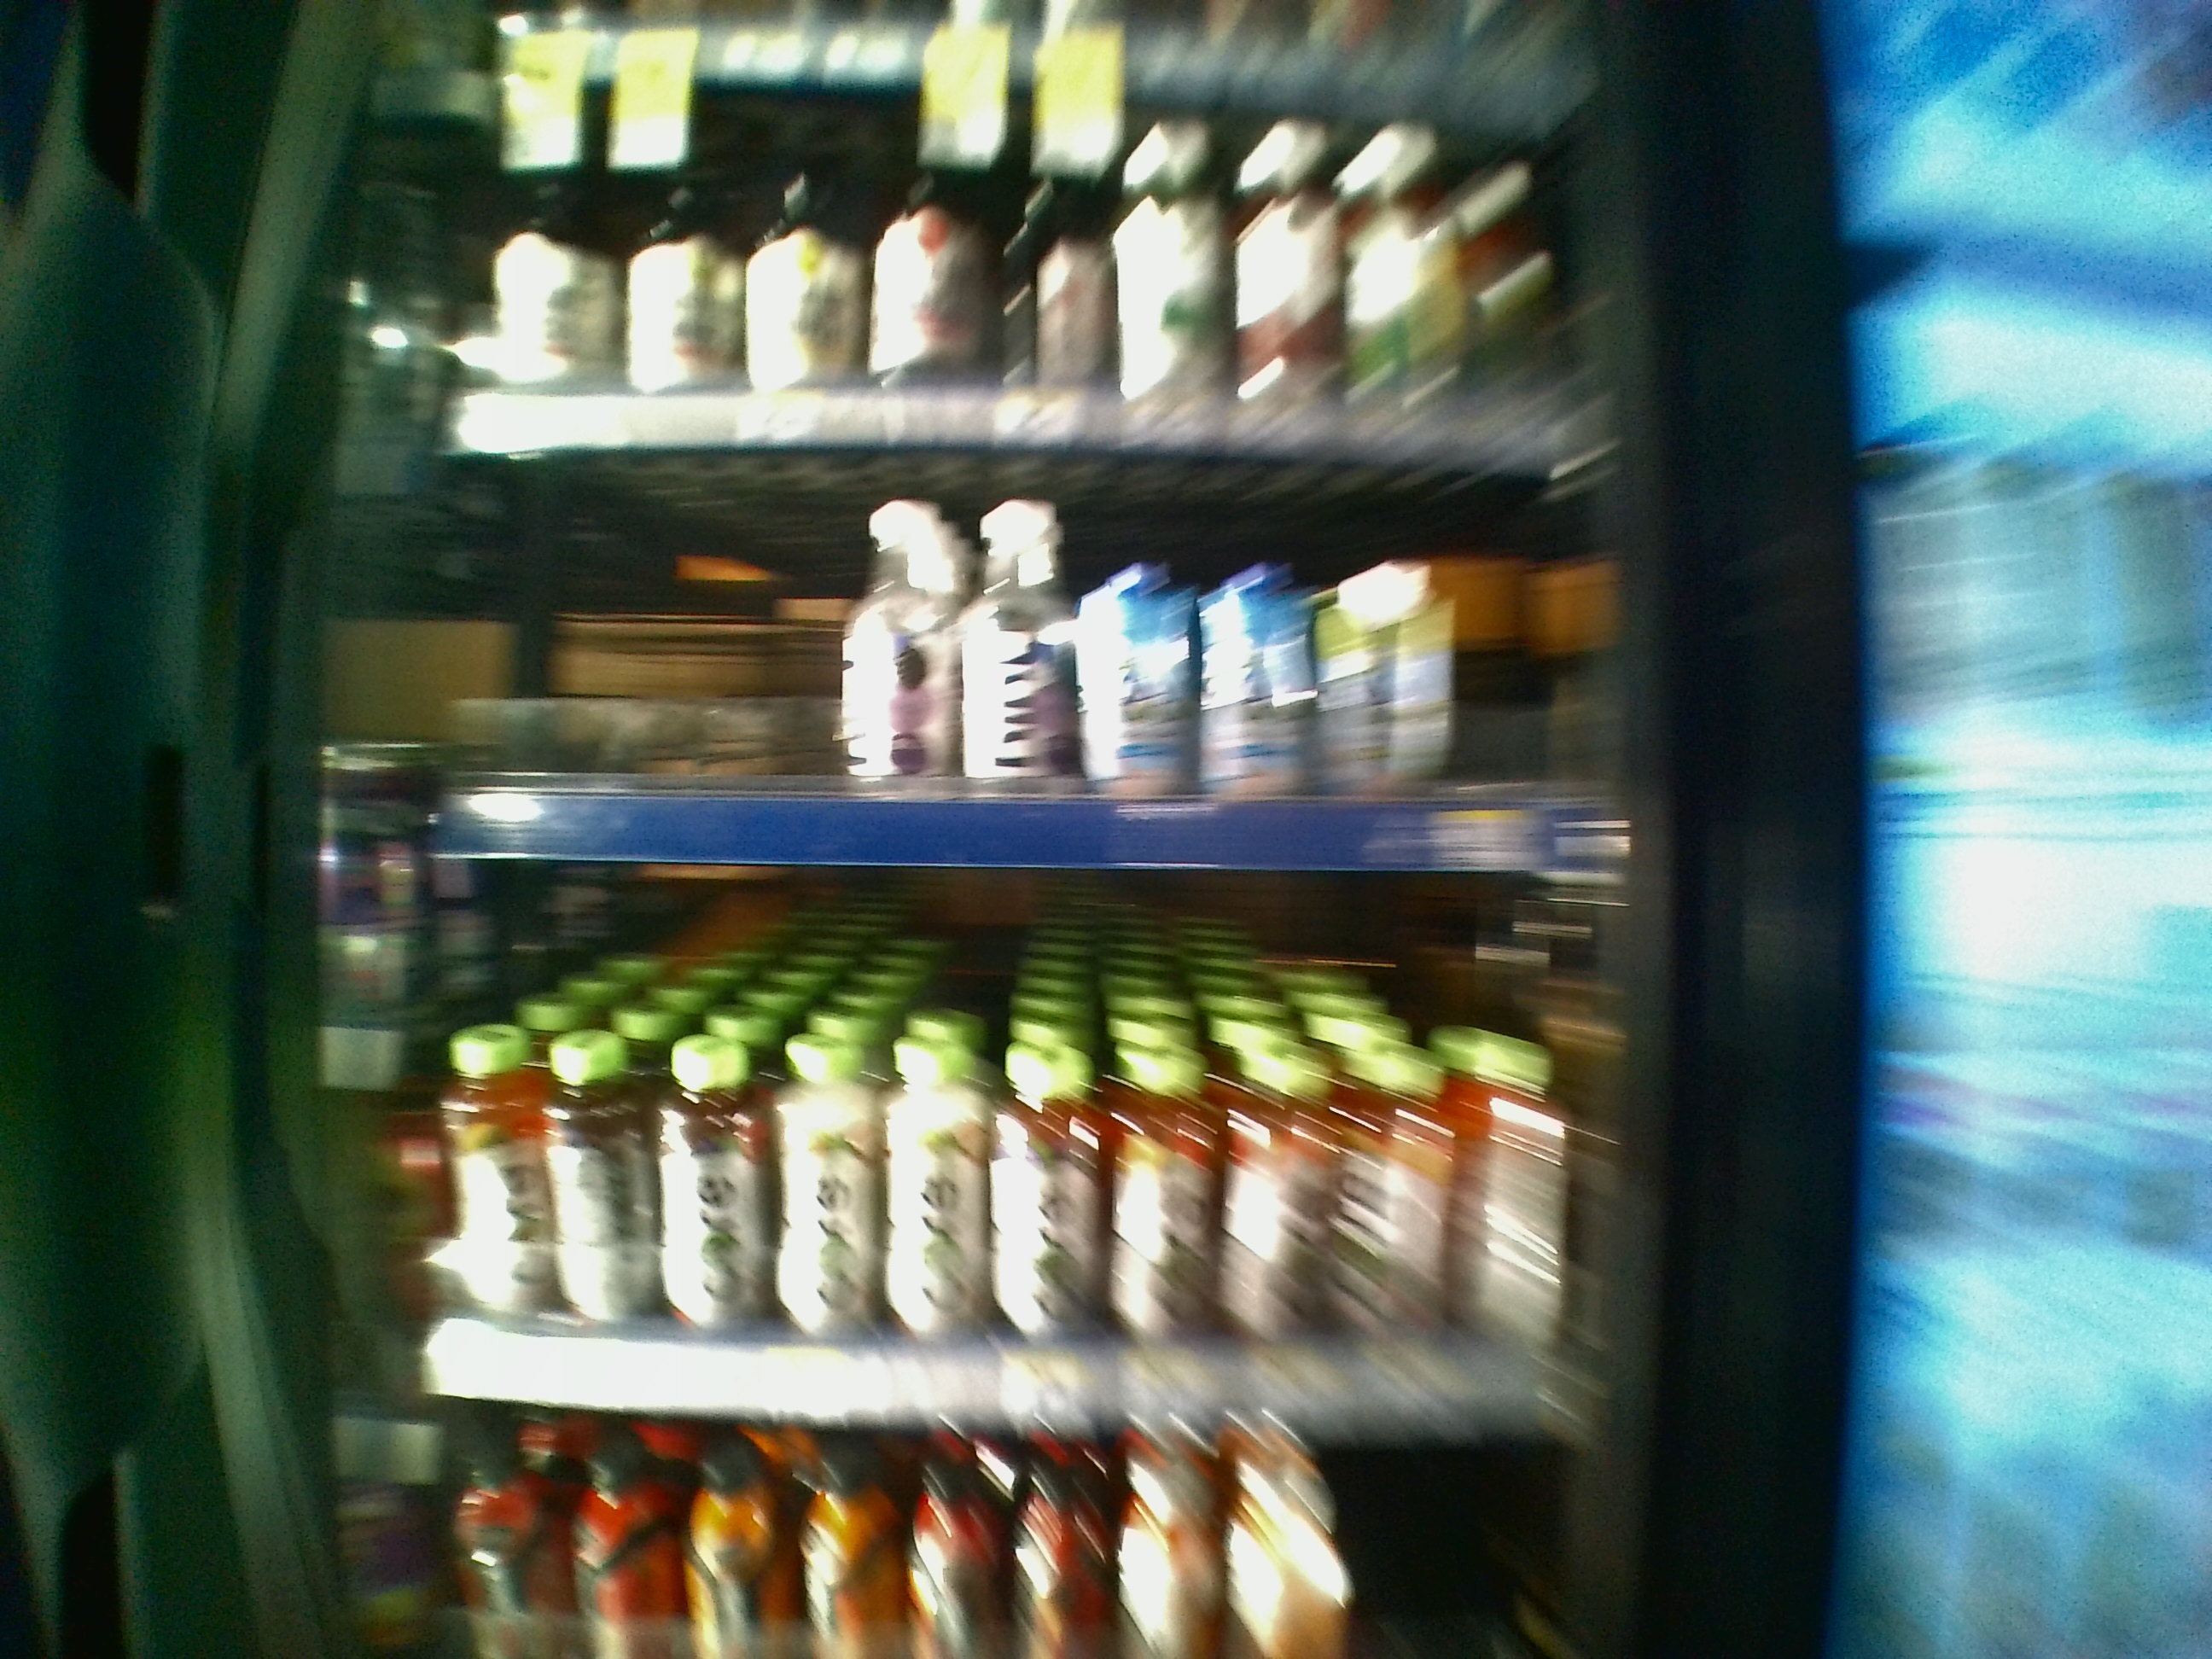shelf: (280, 856, 1649, 1410), (340, 446, 1658, 861)
